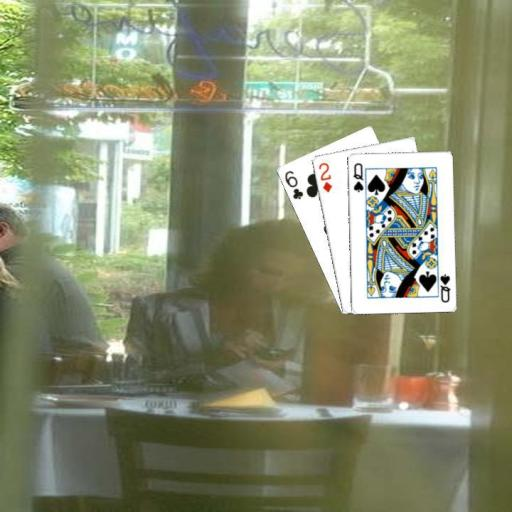2D: (315, 160, 334, 194)
6C: (281, 167, 304, 201)
QS: (350, 160, 365, 194), (437, 271, 452, 304)
